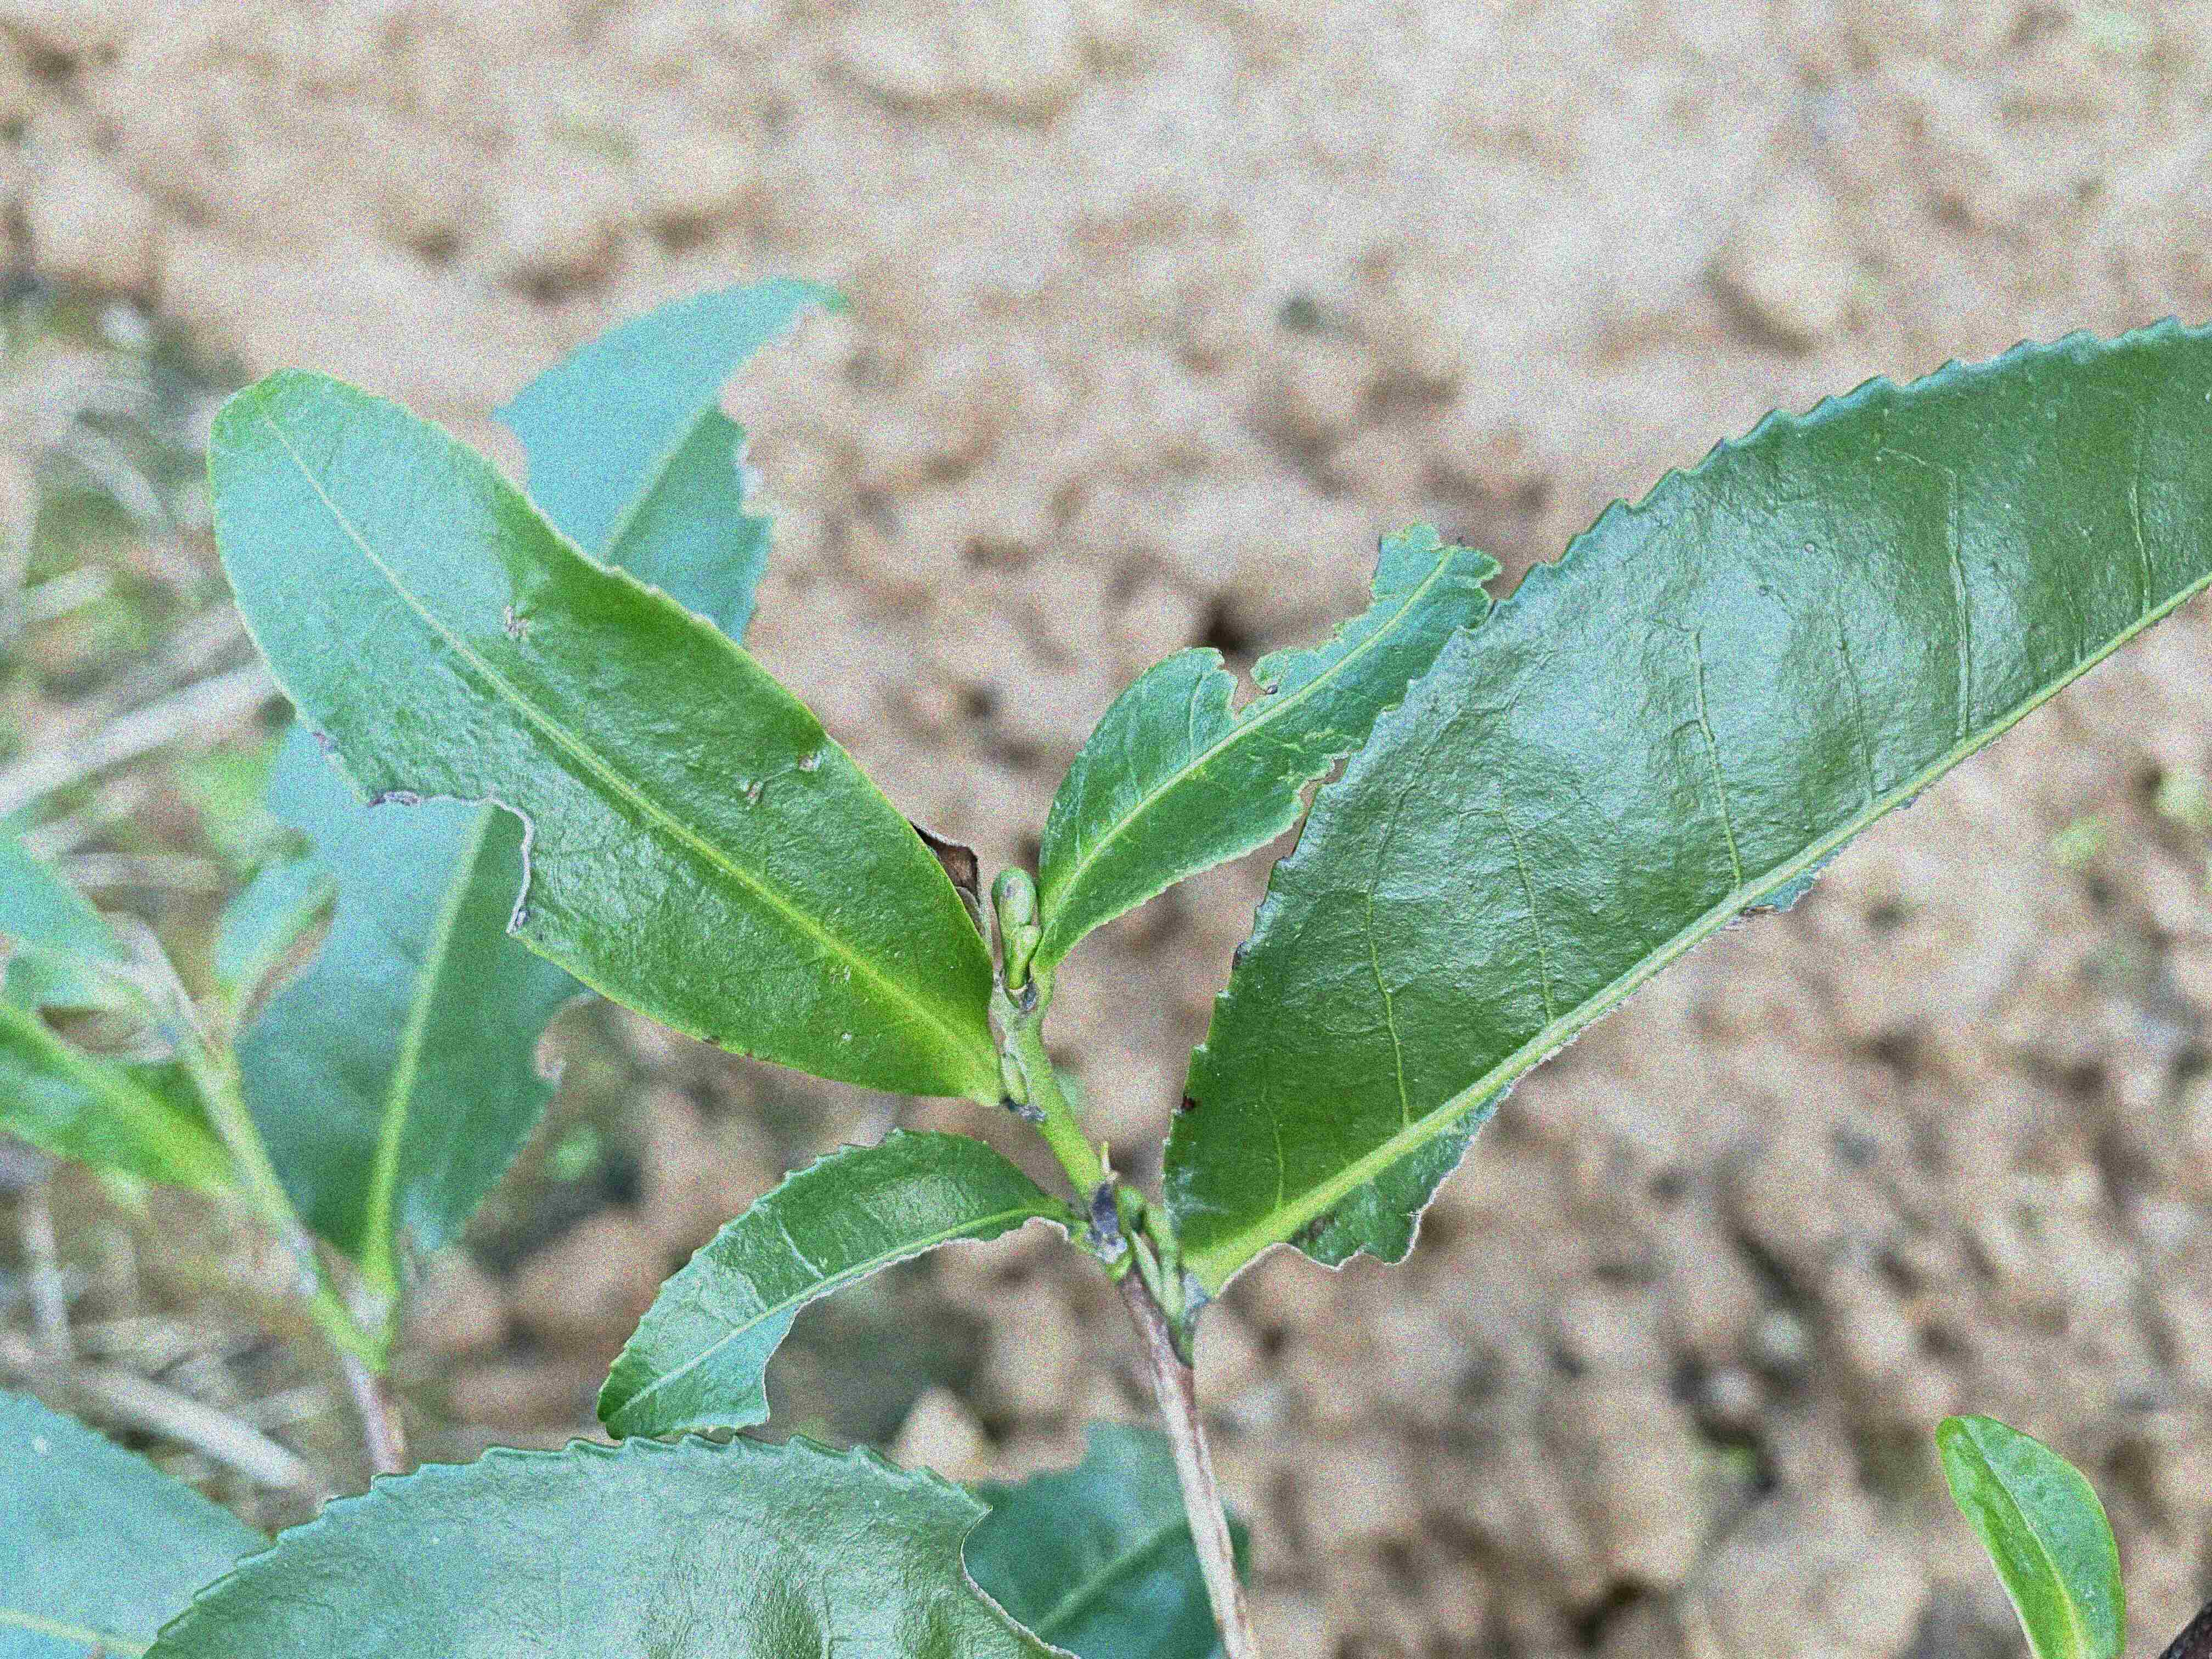chihuo_high: (1162, 319, 2212, 1304), (1035, 523, 1501, 971), (596, 1127, 1089, 1439)
chihuo_low: (200, 368, 1005, 1101), (143, 1431, 1089, 1656)
